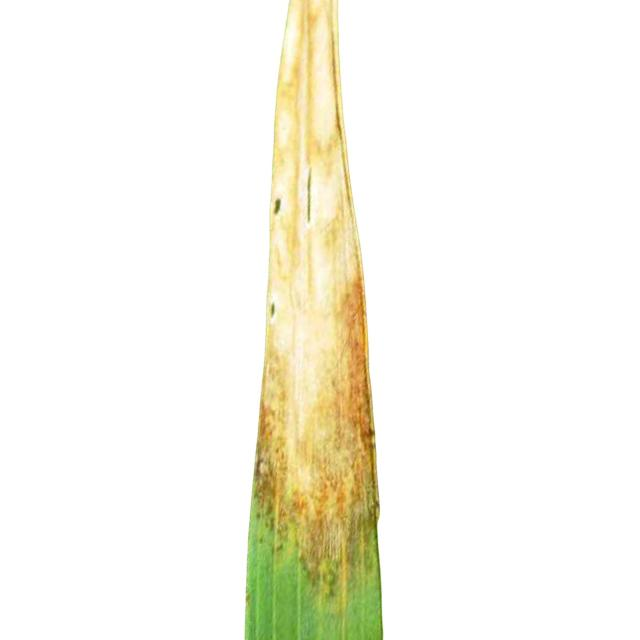Leaf scald: (184, 0, 488, 640)
